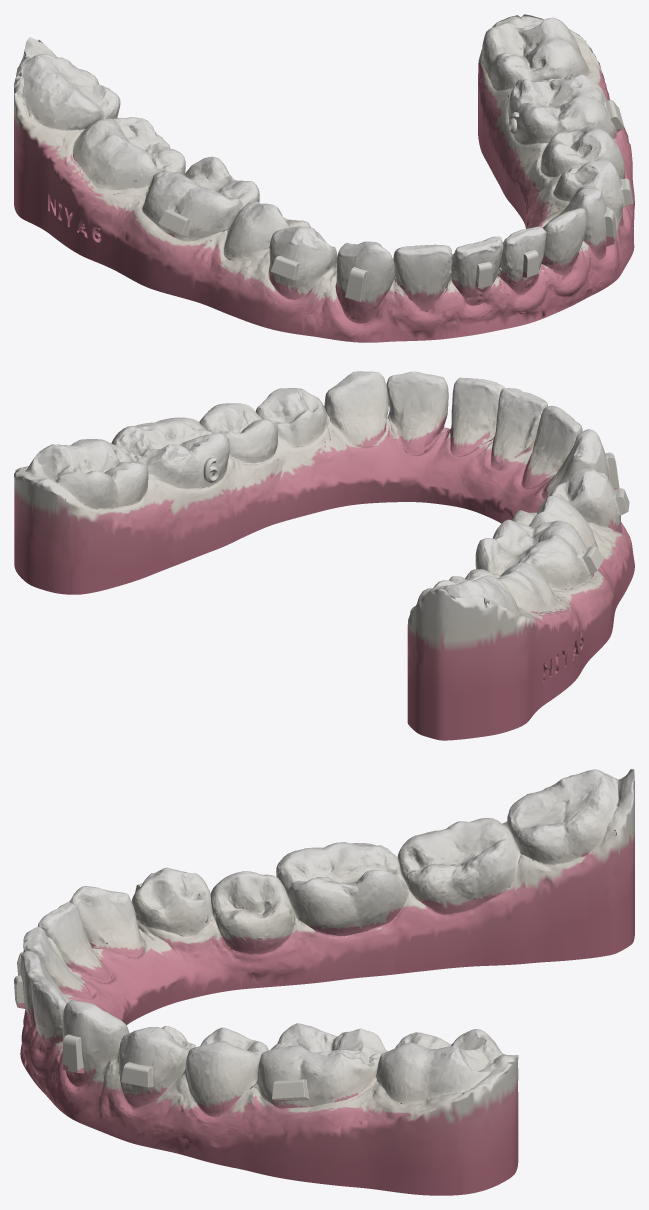
The model's file is Niya Priority Lower jaw - 06 - Model.glb.
3 renders of one model, top to bottom at view 1: azimuth 30°, elevation 25°; view 2: azimuth 150°, elevation 25°; view 3: azimuth 270°, elevation 25°, orthographic. The views are drawn at different scales.
Parts seen in each view (by area): view 1: Niya Priority Lower jaw - 06 - Model; view 2: Niya Priority Lower jaw - 06 - Model; view 3: Niya Priority Lower jaw - 06 - Model.
Part boxes in pixels (x1,y1,x2,y2): Niya Priority Lower jaw - 06 - Model: [14, 14, 634, 342]; Niya Priority Lower jaw - 06 - Model: [14, 371, 634, 740]; Niya Priority Lower jaw - 06 - Model: [14, 769, 634, 1195].
Bounding box in the file's own units: 62.72 × 16.53 × 57.14.
